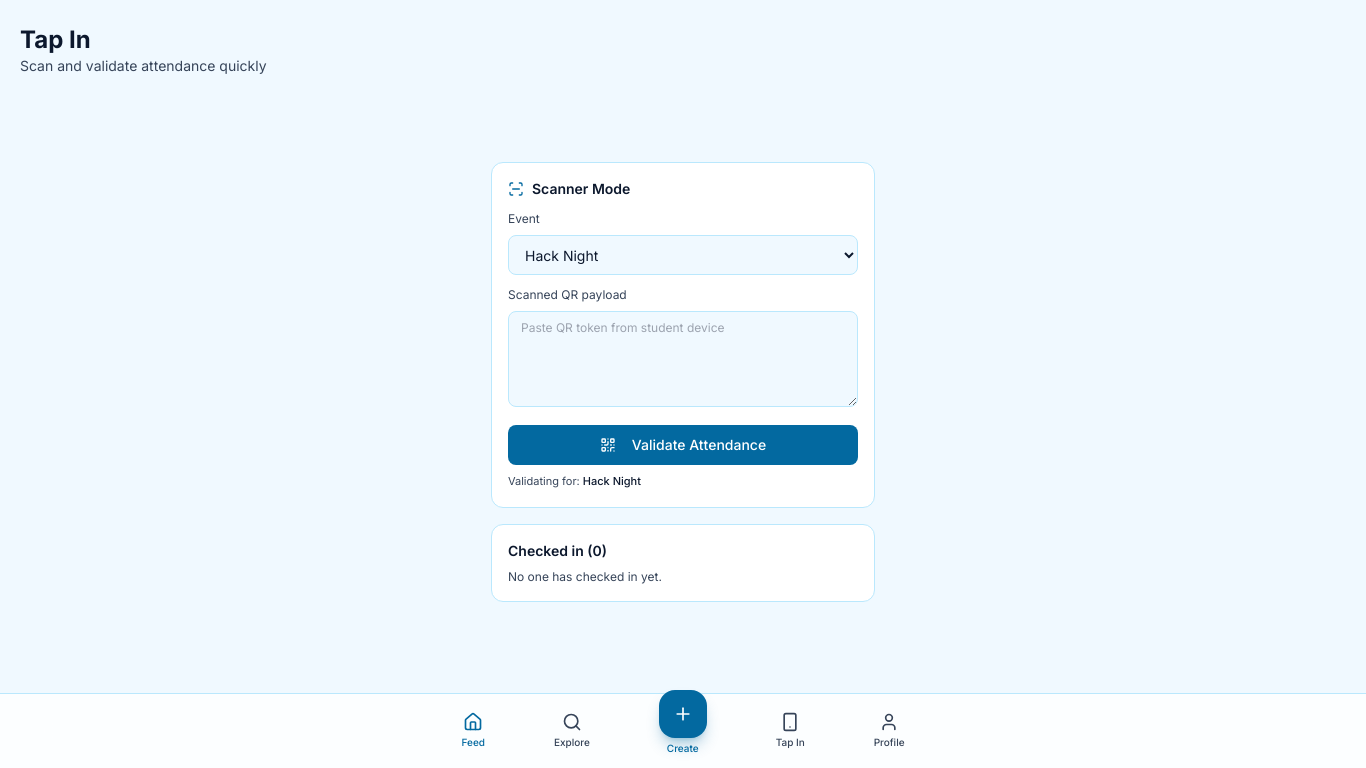
Test: check-in through the server › tells the officer when the server cannot be reached
This screenshot has width=1366, height=768.
Type "x.y" into the text box named "Scanned QR payload" at point(683, 359), box [508, 311, 858, 407]
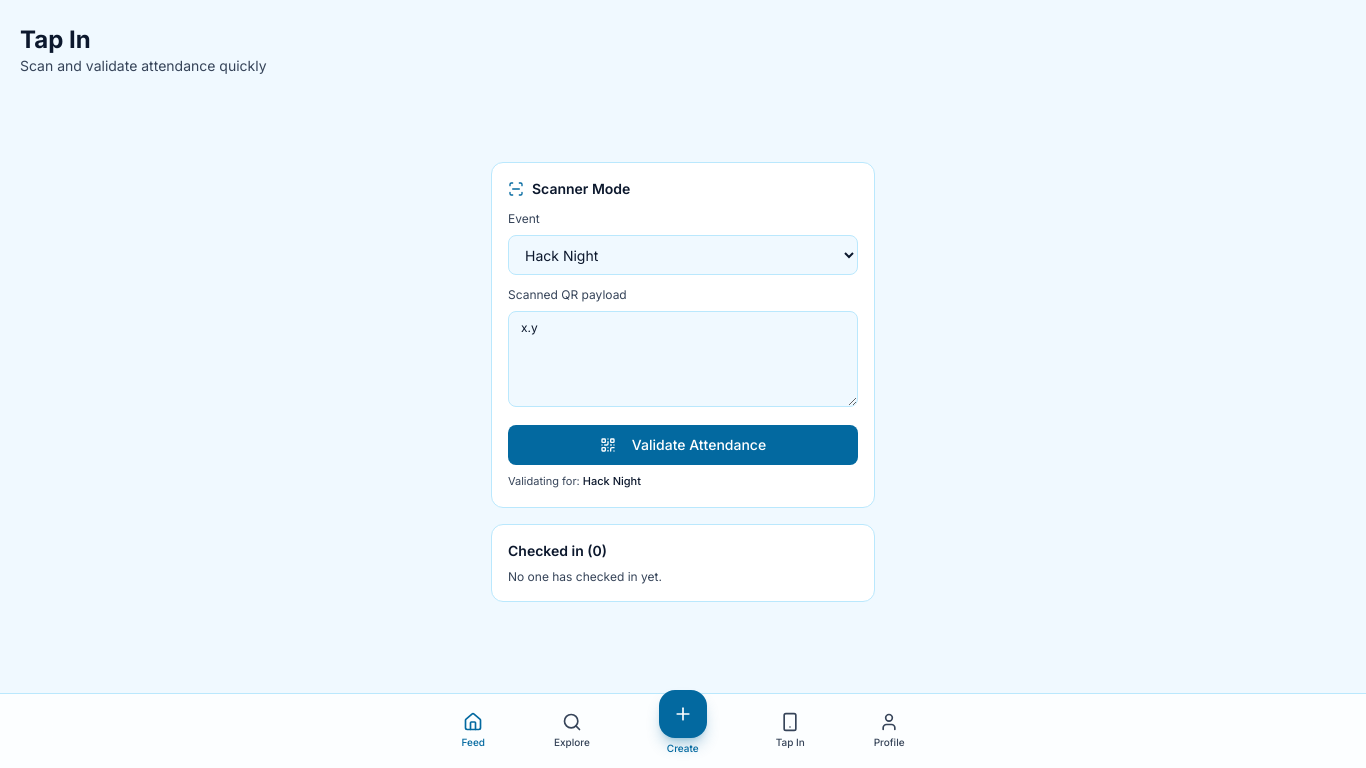
Click the button "Validate Attendance" at point(683, 445), box [508, 425, 858, 465]
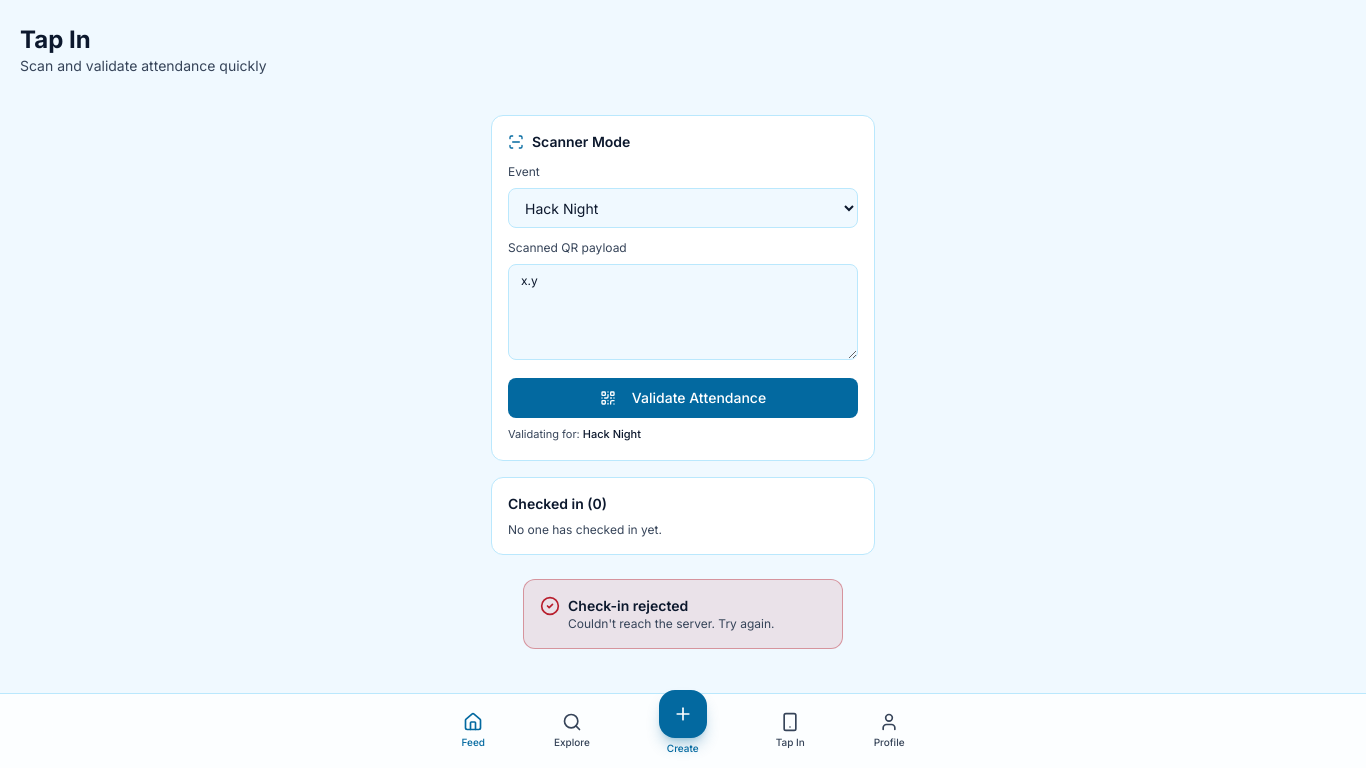
Now the text "Couldn't reach the server. Try again." is shown, box [568, 616, 774, 632]
